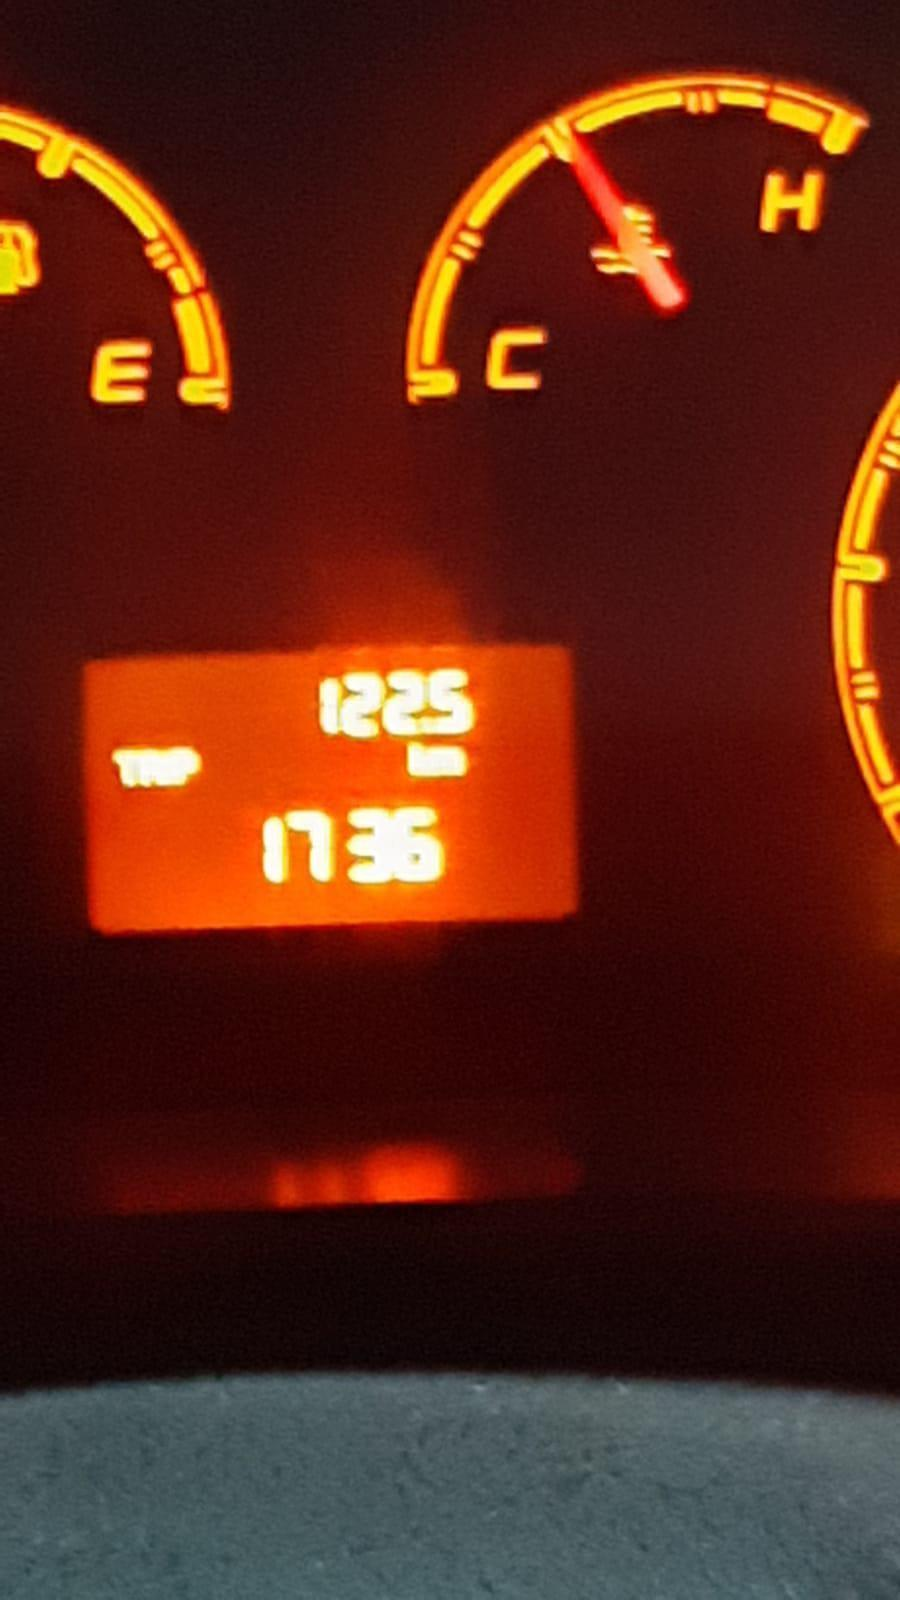1: (260, 815, 286, 885), (316, 674, 340, 736)
2: (338, 671, 382, 740), (382, 668, 425, 736)
3: (346, 805, 391, 884)
5: (429, 666, 476, 736)
6: (391, 805, 444, 884)
7: (286, 808, 334, 886)
X: (433, 743, 471, 780), (175, 744, 202, 790), (112, 745, 138, 791), (405, 740, 433, 780), (138, 745, 163, 790), (163, 746, 174, 791)
odometer: (65, 630, 595, 949)
